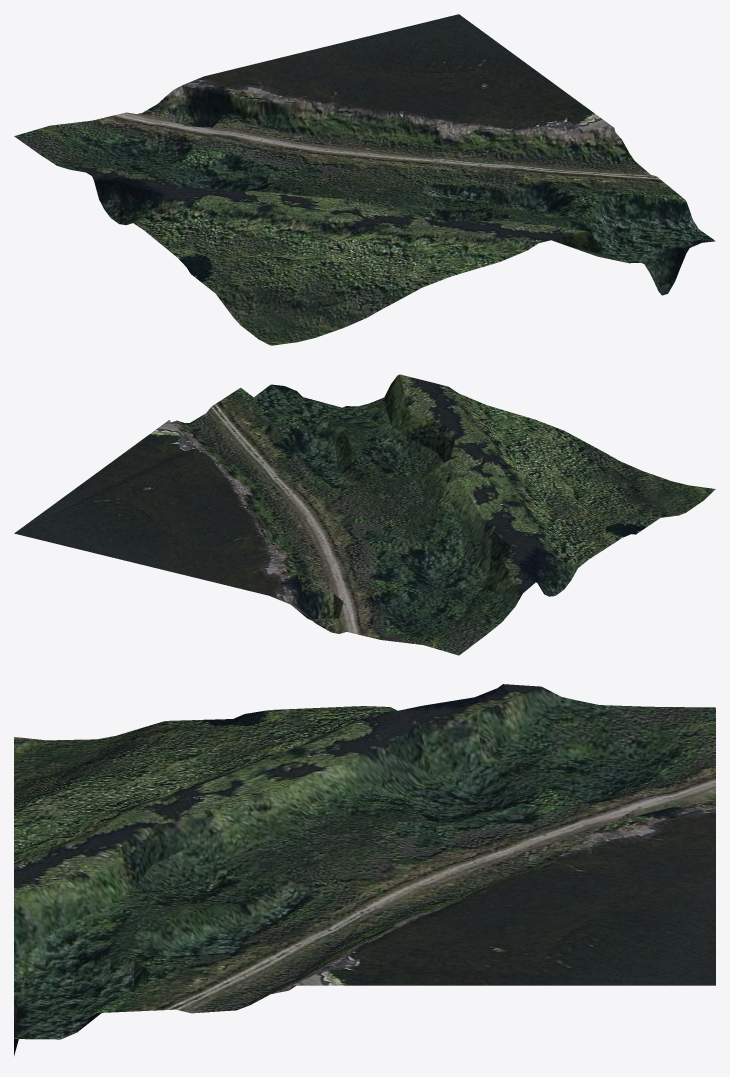
Rendered from map_15_8176_13777.dae.
3 renders of one model, top to bottom at view 1: azimuth 30°, elevation 25°; view 2: azimuth 150°, elevation 25°; view 3: azimuth 270°, elevation 25°, orthographic. The views are drawn at different scales.
Visible parts, largest first — view 1: Ter0; view 2: Ter0; view 3: Ter0.
Boxes of the visible parts, x1=… form: Ter0: x1=14, y1=14, x2=715, y2=345; Ter0: x1=14, y1=374, x2=715, y2=655; Ter0: x1=14, y1=684, x2=715, y2=1055.
Bounding box in the file's own units: 63.88 × 63.88 × 11.5.
2 materials, 2 textured.
